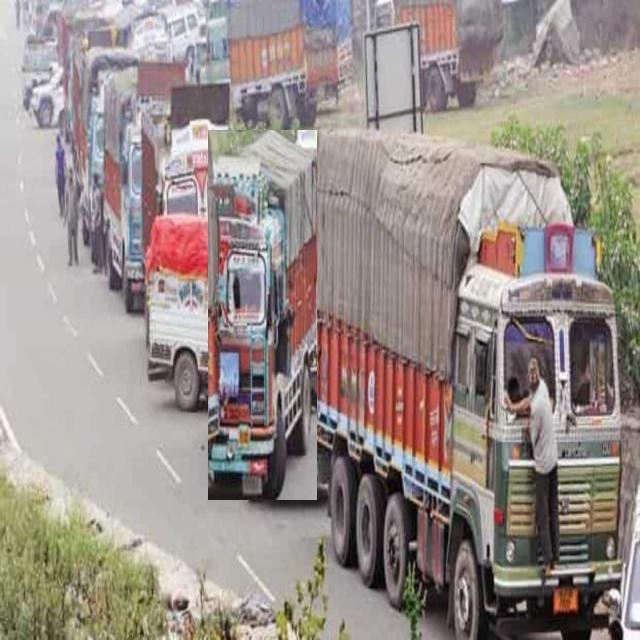truck: (306, 131, 620, 636), (209, 131, 317, 500)
